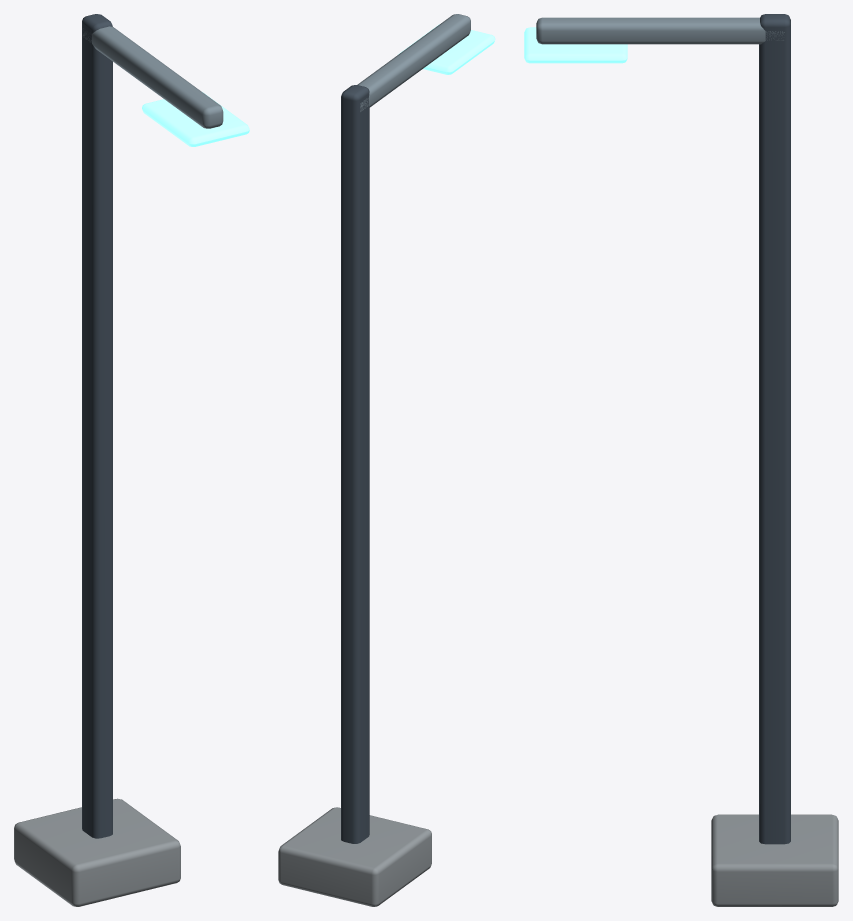
The model's file is Streetlight.fbx.
The picture shows the model from 3 angles, left to right: view 1: azimuth 30°, elevation 25°; view 2: azimuth 150°, elevation 25°; view 3: azimuth 270°, elevation 25°; orthographic projection. The views are drawn at different scales.
Visible parts, largest first — view 1: Streetlight_Graphite, Streetlight_Concrete, Streetlight_Steel, Streetlight_Cyan; view 2: Streetlight_Graphite, Streetlight_Concrete, Streetlight_Steel, Streetlight_Cyan; view 3: Streetlight_Graphite, Streetlight_Concrete, Streetlight_Steel, Streetlight_Cyan.
Boxes of the visible parts, x1,y1,x2,y2 form: Streetlight_Graphite: (82, 14, 112, 838); Streetlight_Concrete: (14, 798, 180, 906); Streetlight_Steel: (82, 26, 223, 128); Streetlight_Cyan: (142, 92, 249, 146); Streetlight_Graphite: (341, 85, 369, 843); Streetlight_Concrete: (278, 807, 431, 906); Streetlight_Steel: (357, 14, 470, 111); Streetlight_Cyan: (398, 24, 495, 74); Streetlight_Graphite: (759, 14, 790, 844); Streetlight_Concrete: (711, 814, 838, 906); Streetlight_Steel: (536, 17, 784, 44); Streetlight_Cyan: (524, 27, 627, 63).
Bounding box in the file's own units: 80 × 600 × 198.
